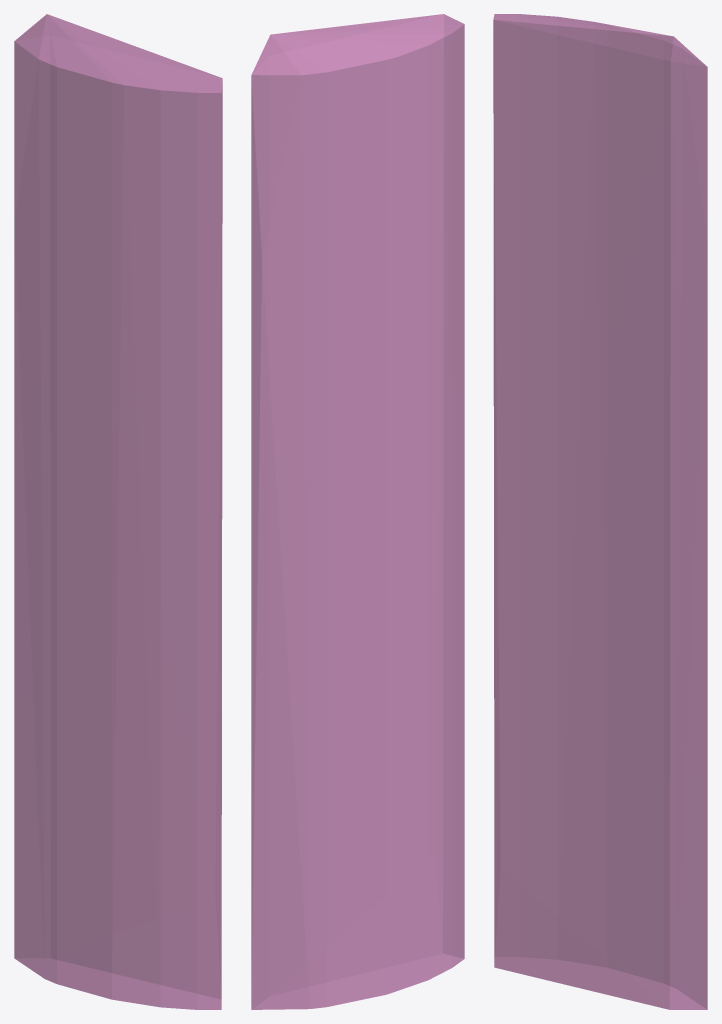
The picture shows the model from 3 angles, left to right: view 1: azimuth 90°, elevation 25°; view 2: azimuth 150°, elevation 25°; view 3: azimuth 270°, elevation 25°; orthographic projection. The views are drawn at different scales.
Parts seen in each view (by area): view 1: Shape_IndexedFaceSet.043_Shape_IndexedFaceSet.9333; view 2: Shape_IndexedFaceSet.043_Shape_IndexedFaceSet.9333; view 3: Shape_IndexedFaceSet.043_Shape_IndexedFaceSet.9333.
Part boxes in pixels (box(x1,y1,x2,y2)): Shape_IndexedFaceSet.043_Shape_IndexedFaceSet.9333: box(14, 14, 222, 1009); Shape_IndexedFaceSet.043_Shape_IndexedFaceSet.9333: box(251, 14, 464, 1009); Shape_IndexedFaceSet.043_Shape_IndexedFaceSet.9333: box(493, 14, 707, 1009).
Size of the model in its own units: 0.0923 by 0.7849 by 0.1567.
